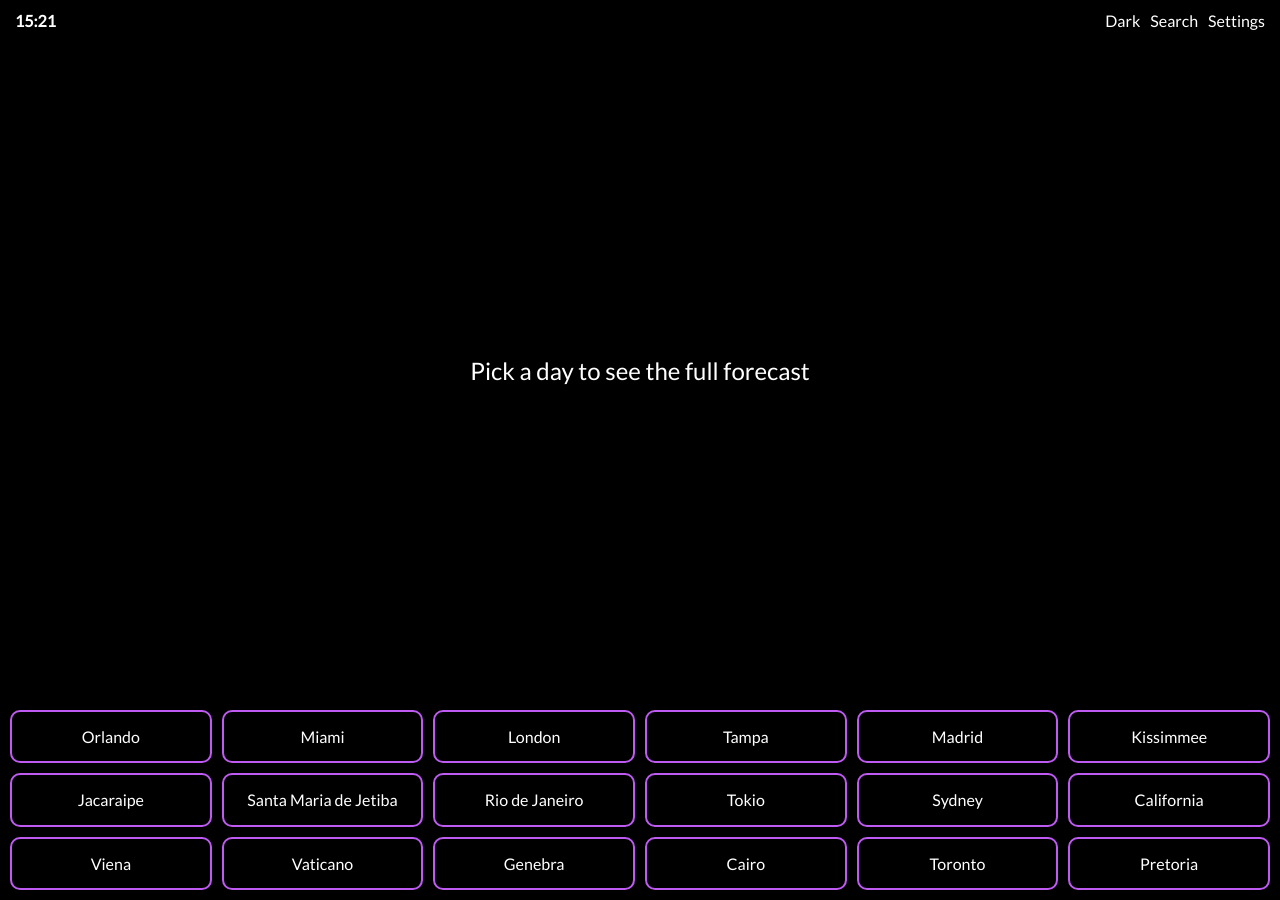
Test: search mode turn on
Click the text "Search" at (1174, 20), box left=1150, top=10, right=1198, bottom=30
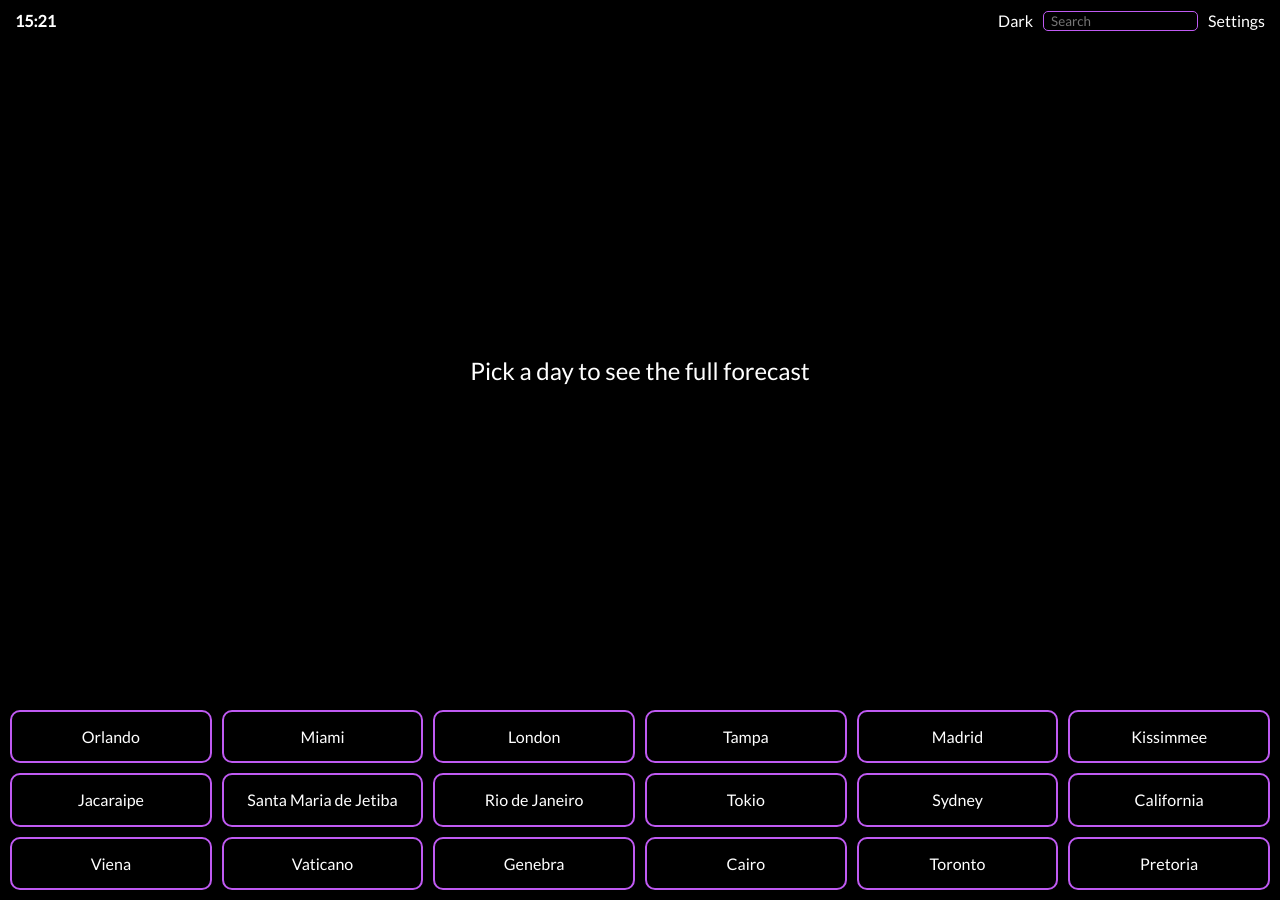
Check: the field with placeholder "Search" is shown, box left=1043, top=10, right=1198, bottom=30
